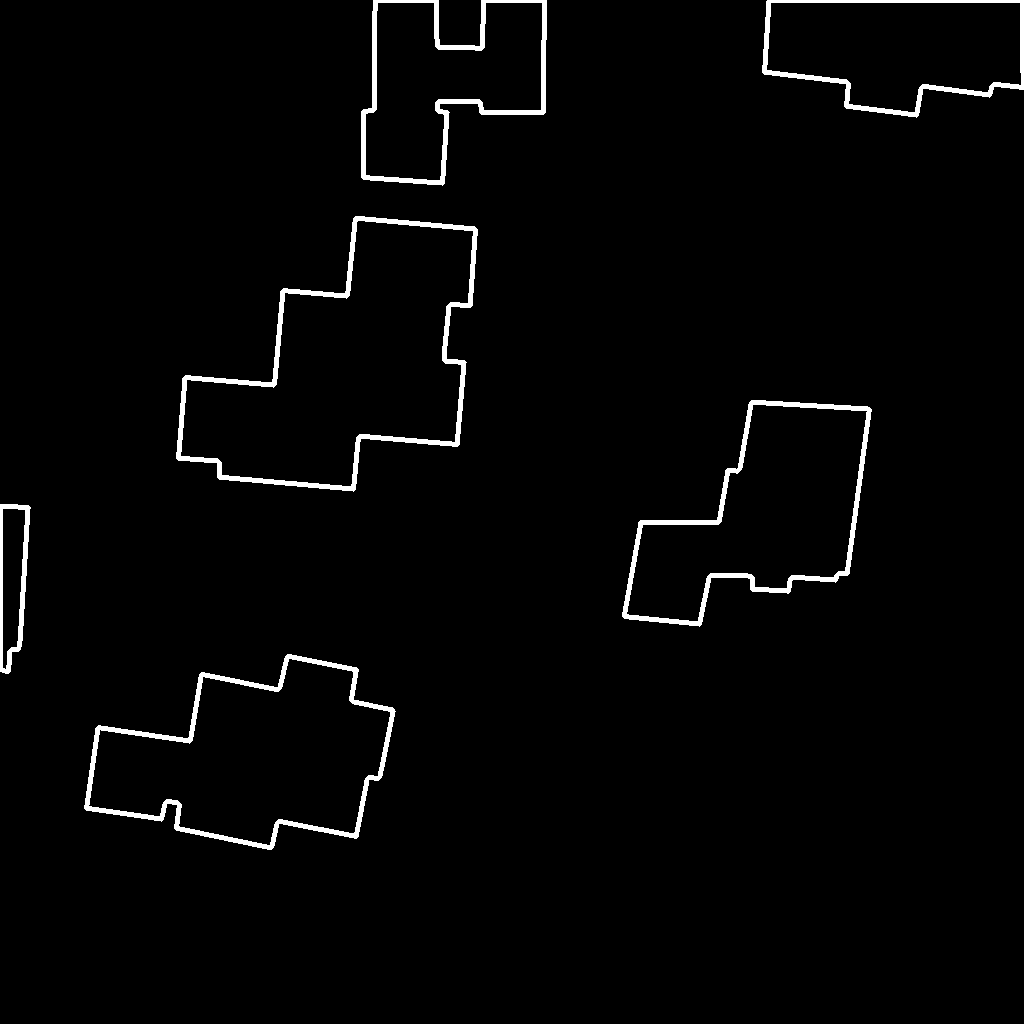building: (178, 218, 477, 490), (86, 656, 394, 849), (624, 402, 871, 625), (363, 0, 546, 184), (764, 0, 1024, 116), (0, 506, 29, 673)
